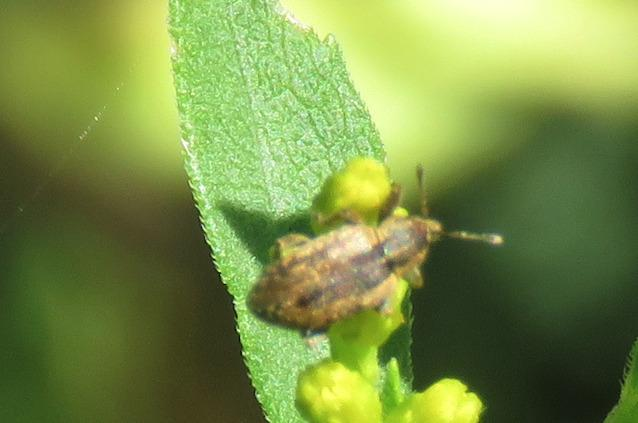weevils: (219, 128, 522, 381)
